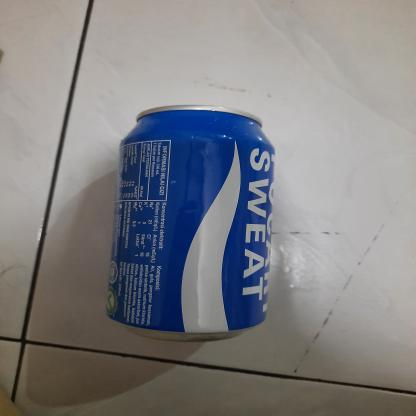bottle: (101, 99, 279, 339)
